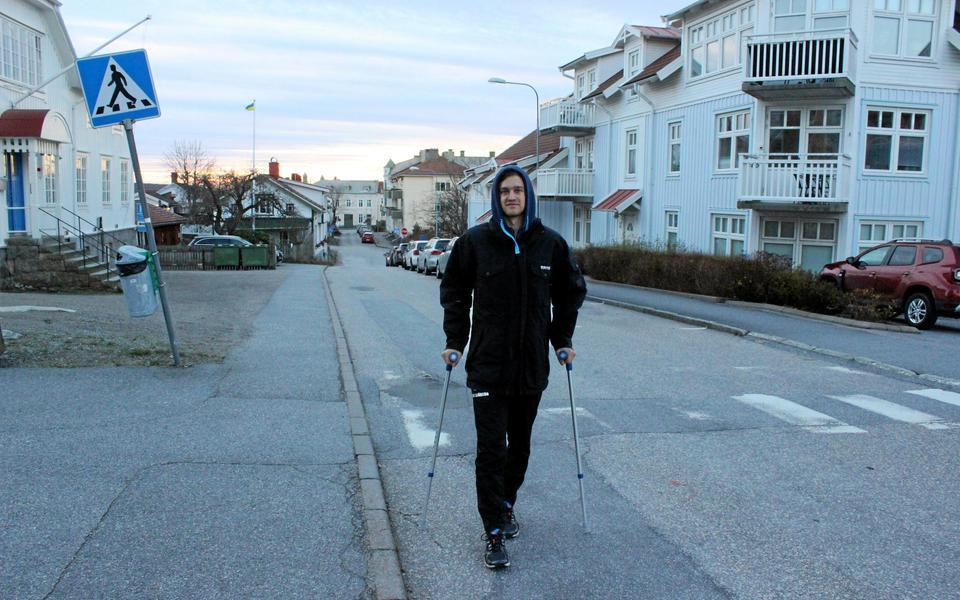crutches: (420, 164, 593, 570)
